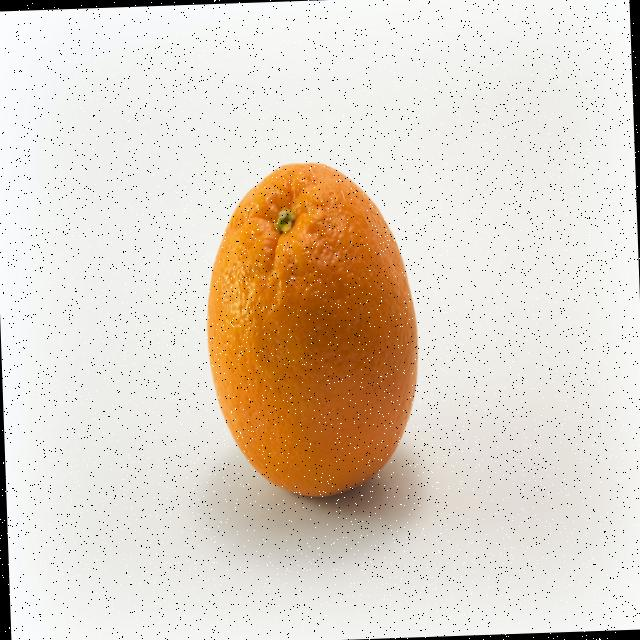orange: (207, 162, 417, 496)
